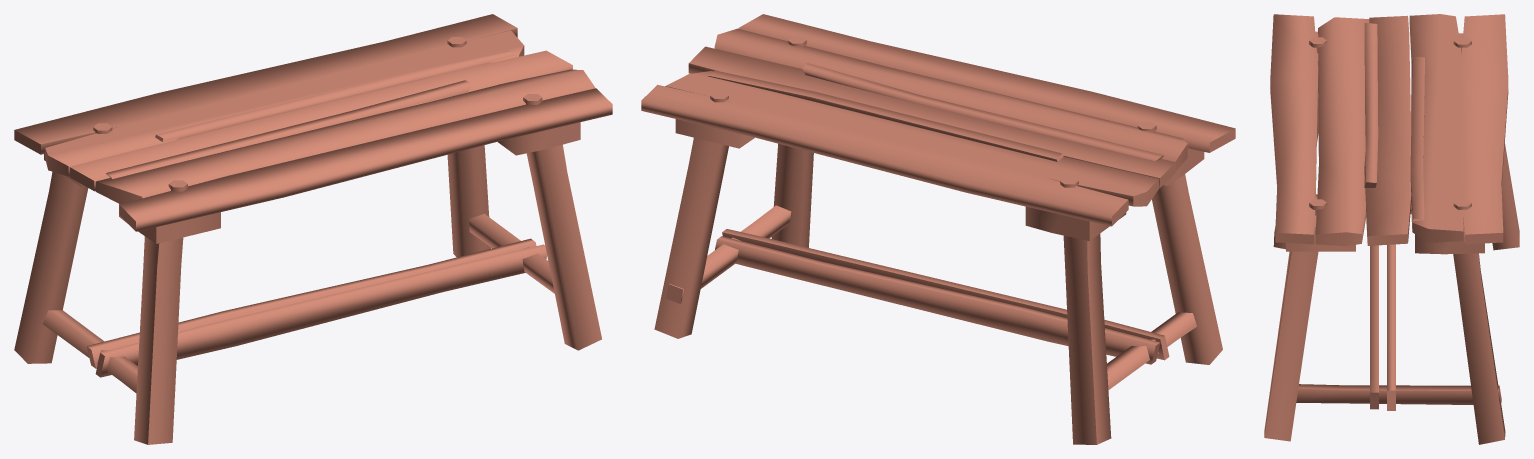
File: table_b.fbx
3 views of the same model, side by side, from view 1: azimuth 30°, elevation 25°; view 2: azimuth 150°, elevation 25°; view 3: azimuth 270°, elevation 25° (orthographic). The views are drawn at different scales.
Parts seen in each view (by area): view 1: Cube.196; view 2: Cube.196; view 3: Cube.196.
Boxes of the visible parts, x1,y1,x2,y2 form: Cube.196: (14,14,612,444); Cube.196: (641,14,1235,444); Cube.196: (1264,14,1519,444).
Size of the model in its own units: 2.43 by 1.16 by 1.18.
